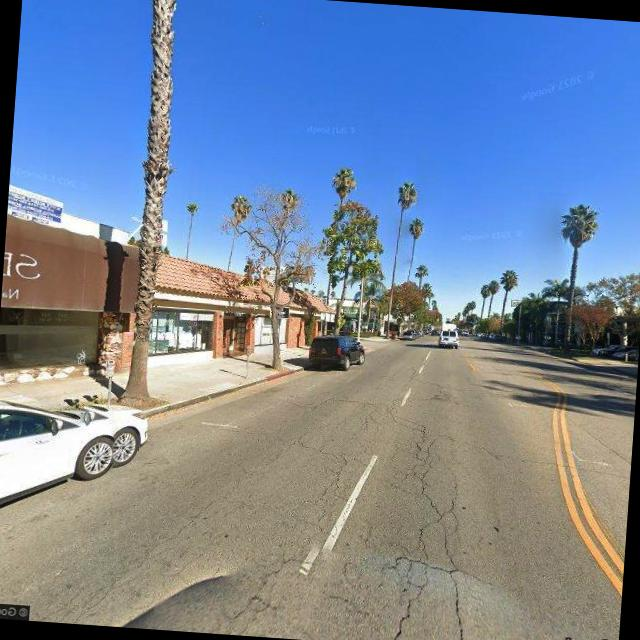crack: (255, 390, 503, 640)
